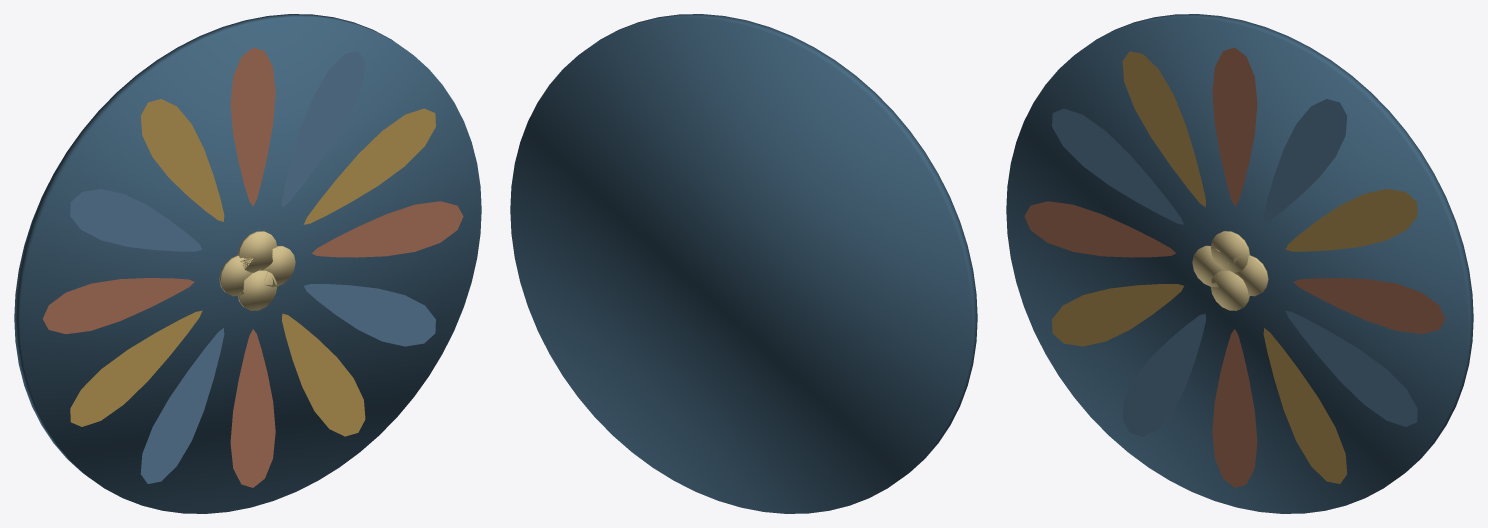
Rendered from rose_glass.glb.
The picture shows the model from 3 angles, left to right: view 1: azimuth 30°, elevation 25°; view 2: azimuth 150°, elevation 25°; view 3: azimuth 330°, elevation 25°; orthographic projection.
Visible parts, largest first — view 1: rose_glass; view 2: rose_glass; view 3: rose_glass.
Boxes of the visible parts, x1,y1,x2,y2 form: rose_glass: (14, 14, 481, 513); rose_glass: (510, 14, 977, 513); rose_glass: (1006, 14, 1473, 513).
Size of the model in its own units: 1.67 by 1.67 by 0.0837.
